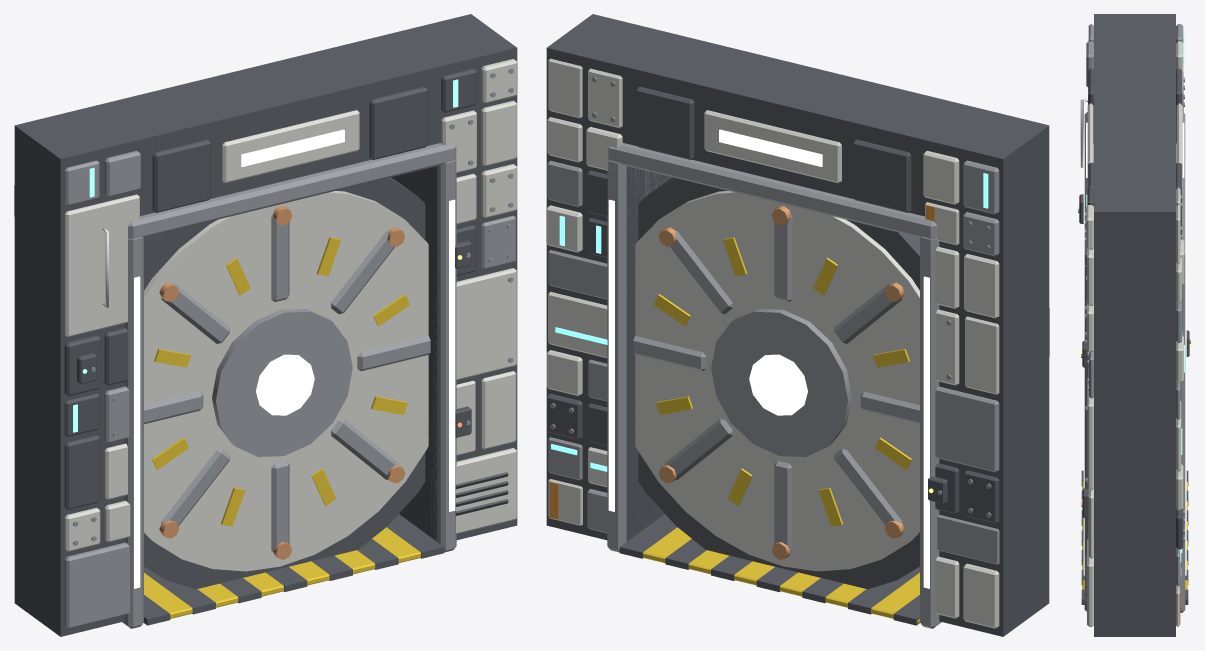
File: door_vault.glb
The picture shows the model from 3 angles, left to right: view 1: azimuth 30°, elevation 25°; view 2: azimuth 150°, elevation 25°; view 3: azimuth 270°, elevation 25°; orthographic projection. The views are drawn at different scales.
Visible parts, largest first — view 1: frame, plug; view 2: frame, plug; view 3: frame.
Boxes of the visible parts, <box> form: frame: <box>14,14,517,636</box>; plug: <box>144,177,430,589</box>; frame: <box>546,14,1049,636</box>; plug: <box>633,177,919,589</box>; frame: <box>1078,14,1190,636</box>.
Bounding box in the file's own units: 4 × 4.13 × 0.963.
